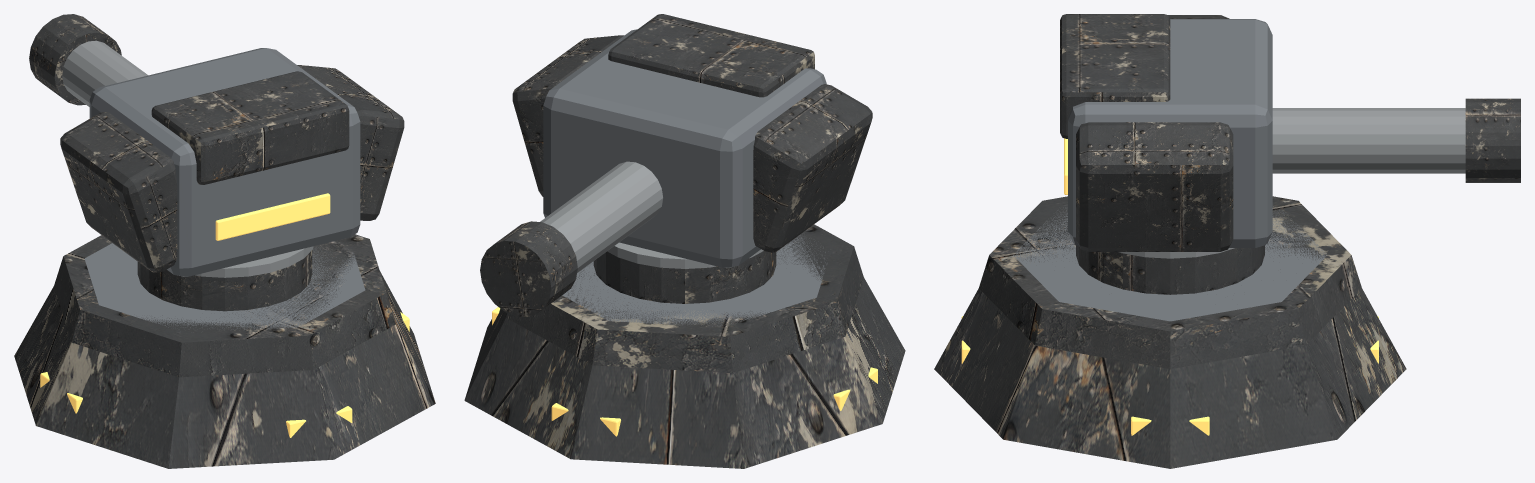
File: turret_construct.glb
3 renders of one model, left to right at view 1: azimuth 30°, elevation 25°; view 2: azimuth 150°, elevation 25°; view 3: azimuth 270°, elevation 25°, orthographic. The views are drawn at different scales.
Visible parts, largest first — view 1: GEO-skirt, GEO-head, GEO-skirt-band, GEO-head-cream, GEO-shoulder, GEO-skirt-top, GEO-waist, GEO-shoulder.001, GEO-muzzle, GEO-barrel, GEO-head-stripe, GEO-waist-ring; view 2: GEO-skirt, GEO-head, GEO-skirt-band, GEO-shoulder, GEO-head-cream, GEO-skirt-top, GEO-muzzle, GEO-barrel, GEO-waist, GEO-shoulder.001, GEO-waist-ring; view 3: GEO-skirt, GEO-skirt-band, GEO-shoulder.001, GEO-head, GEO-barrel, GEO-skirt-top, GEO-head-cream, GEO-waist, GEO-muzzle.
Part boxes in pixels (box(x1,y1,x2,y2)): GEO-skirt: box(14, 271, 435, 468); GEO-head: box(89, 48, 360, 276); GEO-skirt-band: box(54, 234, 395, 377); GEO-head-cream: box(151, 71, 349, 184); GEO-shoulder: box(60, 112, 177, 272); GEO-skirt-top: box(84, 243, 365, 329); GEO-waist: box(137, 250, 312, 311); GEO-shoulder.001: box(297, 65, 404, 220); GEO-muzzle: box(29, 14, 121, 105); GEO-barrel: box(62, 40, 148, 106); GEO-head-stripe: box(215, 193, 330, 240); GEO-waist-ring: box(195, 246, 313, 277); GEO-skirt: box(464, 278, 905, 468); GEO-head: box(543, 29, 826, 267); GEO-skirt-band: box(506, 224, 863, 373); GEO-shoulder: box(753, 84, 872, 252); GEO-head-cream: box(608, 14, 814, 97); GEO-skirt-top: box(562, 235, 827, 326); GEO-muzzle: box(480, 221, 577, 316); GEO-barrel: box(540, 161, 662, 272); GEO-waist: box(593, 251, 776, 303); GEO-shoulder.001: box(512, 35, 624, 196); GEO-waist-ring: box(607, 242, 763, 268); GEO-skirt: box(934, 288, 1406, 468); GEO-skirt-band: box(979, 196, 1361, 369); GEO-shoulder.001: box(1076, 122, 1233, 251); GEO-head: box(1068, 19, 1272, 247); GEO-barrel: box(1272, 108, 1465, 173); GEO-skirt-top: box(1013, 206, 1326, 321); GEO-head-cream: box(1060, 14, 1170, 138); GEO-waist: box(1076, 245, 1264, 294); GEO-muzzle: box(1465, 98, 1520, 182).
Bounding box in the file's own units: 60 × 44.5 × 74.5.
Materials: 5 (2 with a texture image).
